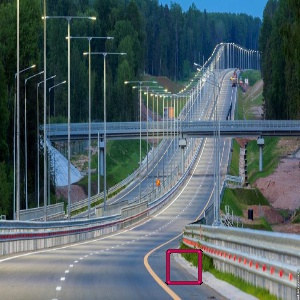square: (165, 247, 205, 288)
